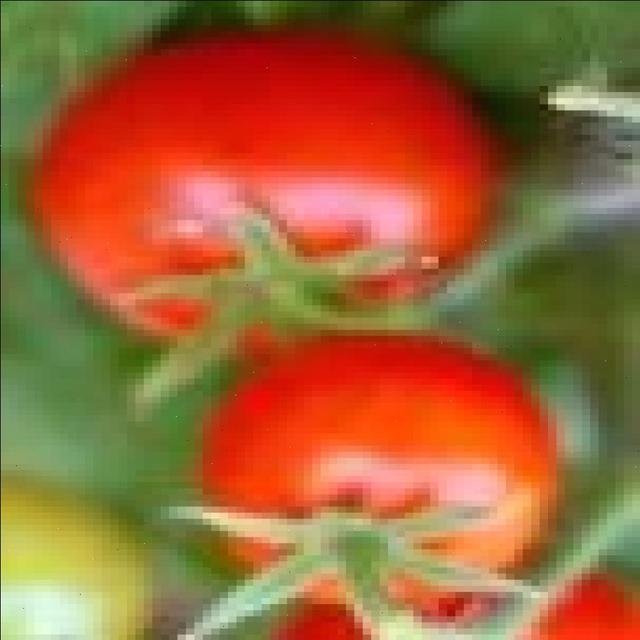Healthy Fruit: (177, 122, 313, 320)
